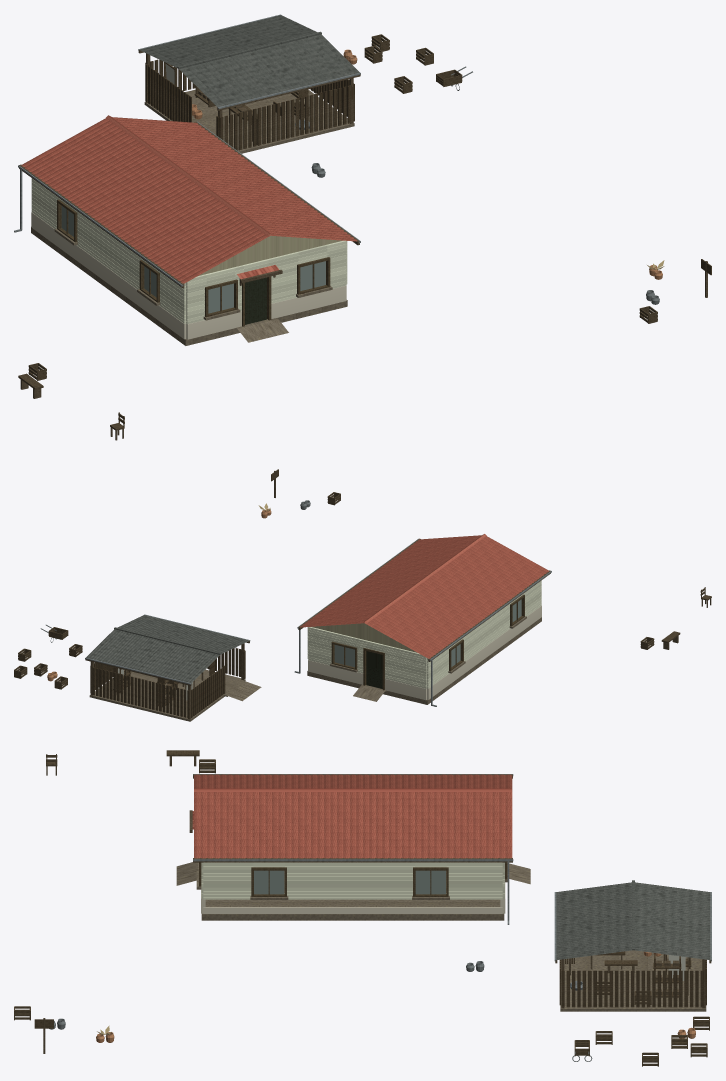
3 views of the same model, one above another, from view 1: azimuth 30°, elevation 25°; view 2: azimuth 150°, elevation 25°; view 3: azimuth 270°, elevation 25° (orthographic). The views are drawn at different scales.
Parts seen in each view (by area): view 1: H40_TELHAS, H40_ABRIGO_COBERTURA, H40_ABRIGO_RIPAS, H40_LATERAIS_REVESTIMENTO, H40_FACHADA_REVESTIMENTO, H40_ABRIGO_BASE, H40_LATERAIS_MINERAL, H40_FACHADA_MINERAL, H40_FUNDACAO, H40_VIDROS_RECUADOS, H40_OITOES, H40_CAIXILHOS (+5 smaller); view 2: H40_TELHAS, H40_ABRIGO_COBERTURA, H40_ABRIGO_RIPAS, H40_FUNDOS_REVESTIMENTO, H40_LATERAIS_REVESTIMENTO, H40_ABRIGO_BASE, H40_LATERAIS_MINERAL, H40_FUNDOS_MINERAL, H40_FUNDACAO, H40_OITOES, H40_CAIXILHOS, H40_VIDROS_RECUADOS (+4 smaller); view 3: H40_TELHAS, H40_ABRIGO_COBERTURA, H40_LATERAIS_REVESTIMENTO, H40_FUNDACAO, H40_ABRIGO_RIPAS, H40_ABRIGO_BASE, H40_RODAPE, H40_BEIRAIS, H40_VIDROS_RECUADOS, H40_CALHA, H40_CUMEEIRA, H40_CAIXILHOS.
Boxes of the visible parts, x1,y1,x2,y2 form: H40_TELHAS: (21, 117, 357, 283); H40_ABRIGO_COBERTURA: (139, 15, 359, 107); H40_ABRIGO_RIPAS: (145, 59, 354, 150); H40_LATERAIS_REVESTIMENTO: (31, 178, 347, 323); H40_FACHADA_REVESTIMENTO: (186, 240, 346, 324); H40_ABRIGO_BASE: (144, 89, 354, 153); H40_LATERAIS_MINERAL: (31, 212, 186, 339); H40_FACHADA_MINERAL: (186, 285, 346, 339); H40_FUNDACAO: (31, 227, 347, 345); H40_VIDROS_RECUADOS: (61, 206, 325, 313); H40_OITOES: (198, 235, 342, 275); H40_CAIXILHOS: (57, 199, 330, 317); H40_TELHAS: (300, 535, 548, 658); H40_ABRIGO_COBERTURA: (86, 615, 249, 683); H40_ABRIGO_RIPAS: (90, 648, 245, 718); H40_FUNDOS_REVESTIMENTO: (308, 627, 426, 688); H40_LATERAIS_REVESTIMENTO: (307, 580, 541, 688); H40_ABRIGO_BASE: (89, 669, 245, 721); H40_LATERAIS_MINERAL: (427, 606, 541, 699); H40_FUNDOS_MINERAL: (308, 660, 426, 700); H40_FUNDACAO: (307, 617, 541, 704); H40_OITOES: (311, 623, 416, 652); H40_CAIXILHOS: (331, 594, 524, 671); H40_VIDROS_RECUADOS: (334, 599, 521, 667); H40_TELHAS: (194, 774, 512, 858); H40_ABRIGO_COBERTURA: (556, 882, 710, 959); H40_LATERAIS_REVESTIMENTO: (203, 862, 502, 899); H40_FUNDACAO: (201, 871, 504, 920); H40_ABRIGO_RIPAS: (559, 959, 706, 1007); H40_ABRIGO_BASE: (560, 950, 706, 1011); H40_RODAPE: (202, 907, 503, 913); H40_BEIRAIS: (193, 774, 512, 862); H40_VIDROS_RECUADOS: (254, 870, 445, 894); H40_CALHA: (193, 774, 513, 861); H40_CUMEEIRA: (194, 788, 511, 791); H40_CAIXILHOS: (199, 862, 507, 896).
Size of the model in its own units: 30.05 by 4.23 by 28.68.
15 materials, 9 textured.
